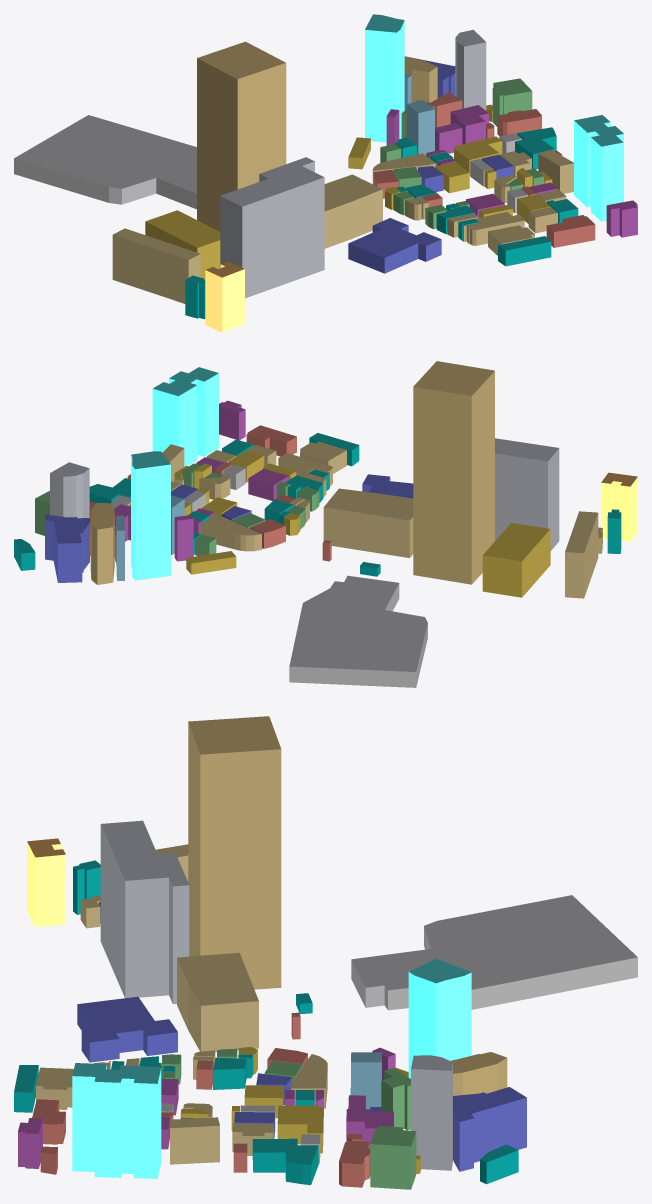
The model's file is shibuya-3.glb.
3 views of the same model, one above another, from view 1: azimuth 30°, elevation 25°; view 2: azimuth 150°, elevation 25°; view 3: azimuth 270°, elevation 25° (orthographic). The views are drawn at different scales.
Parts seen in each view (by area): view 1: shibuya-3; view 2: shibuya-3; view 3: shibuya-3.
Part boxes in pixels (x1=…): shibuya-3: x1=14, y1=14, x2=637, y2=332; shibuya-3: x1=14, y1=361, x2=637, y2=687; shibuya-3: x1=14, y1=716, x2=637, y2=1189.
Size of the model in its own units: 380 by 143 by 338.
